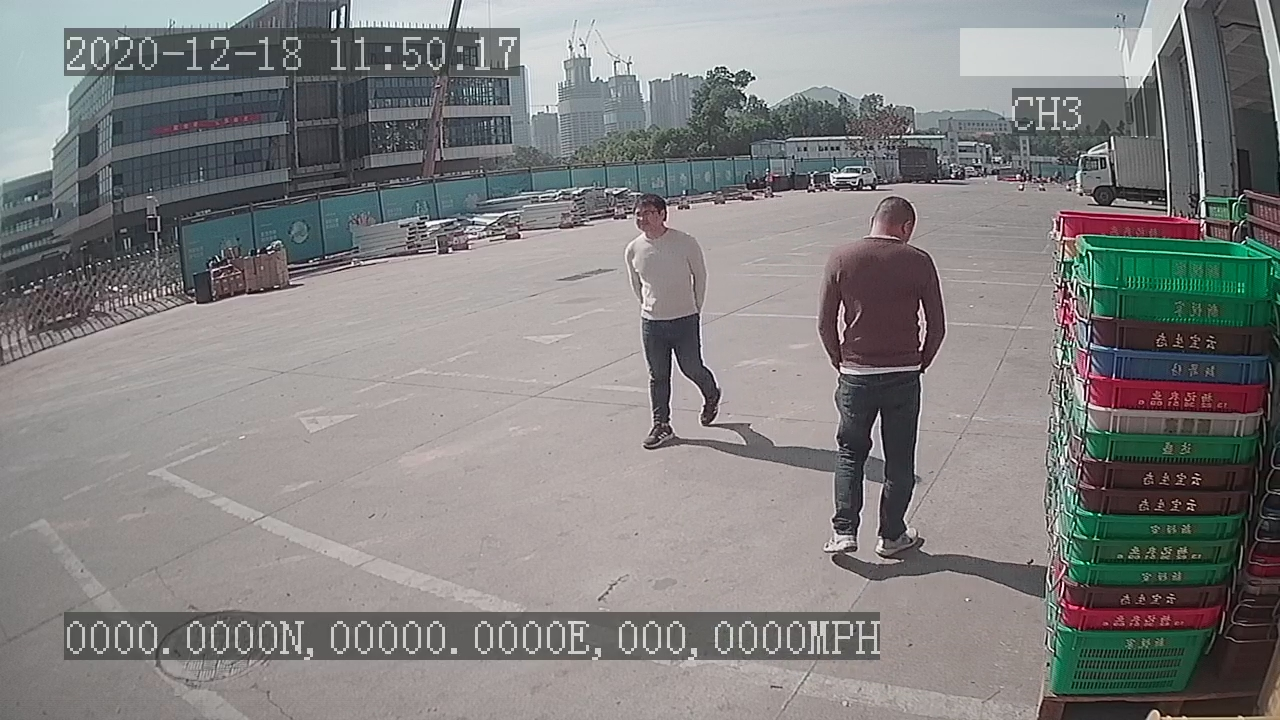person: (811, 192, 954, 565), (622, 188, 726, 458)
